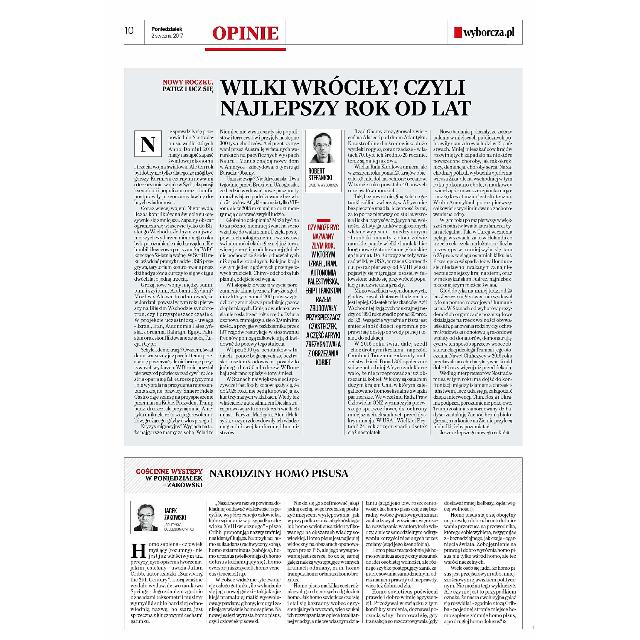article: (129, 71, 516, 439), (127, 464, 519, 628)
